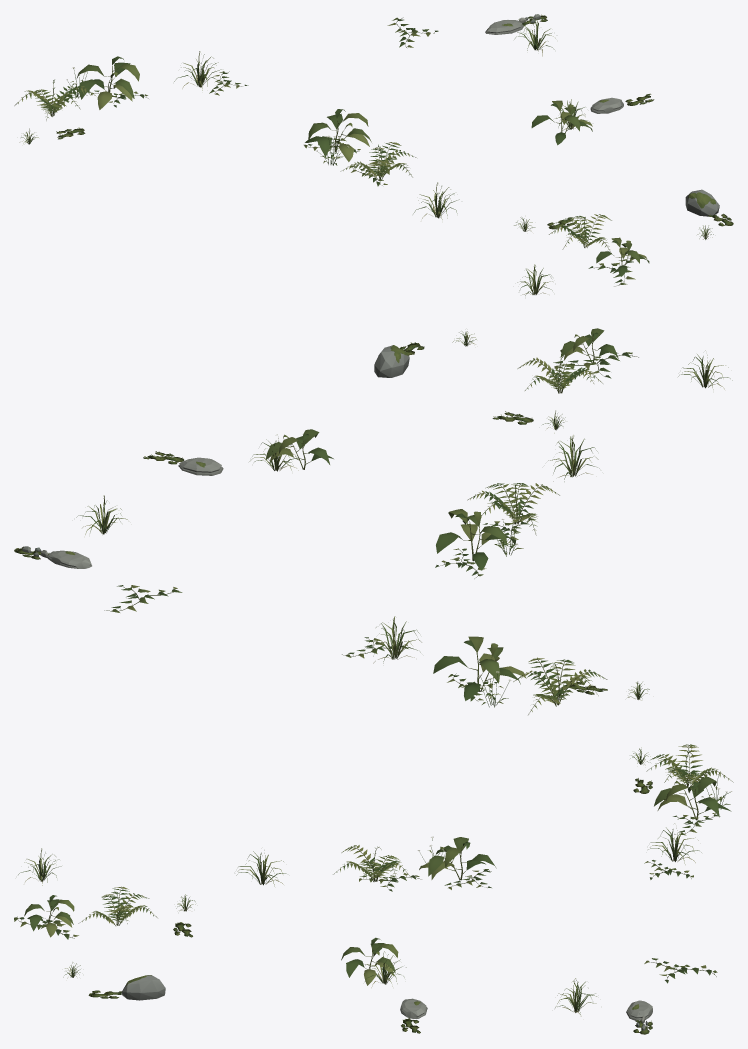
Rendered from dressing_stage16.glb.
3 renders of one model, top to bottom at view 1: azimuth 30°, elevation 25°; view 2: azimuth 150°, elevation 25°; view 3: azimuth 270°, elevation 25°, orthographic. The views are drawn at different scales.
Parts seen in each view (by area): view 1: stage1_dressing_foliage, stage1_dressing_rocks; view 2: stage1_dressing_foliage, stage1_dressing_rocks; view 3: stage1_dressing_foliage, stage1_dressing_rocks.
Part boxes in pixels (bbox=[...]): stage1_dressing_foliage: bbox=[14, 14, 733, 295]; stage1_dressing_rocks: bbox=[485, 14, 719, 216]; stage1_dressing_foliage: bbox=[14, 328, 732, 714]; stage1_dressing_rocks: bbox=[22, 345, 409, 568]; stage1_dressing_foliage: bbox=[14, 744, 733, 1034]; stage1_dressing_rocks: bbox=[121, 975, 652, 1030].
Bounding box in the file's own units: 5.72 × 0.4278 × 6.32.
